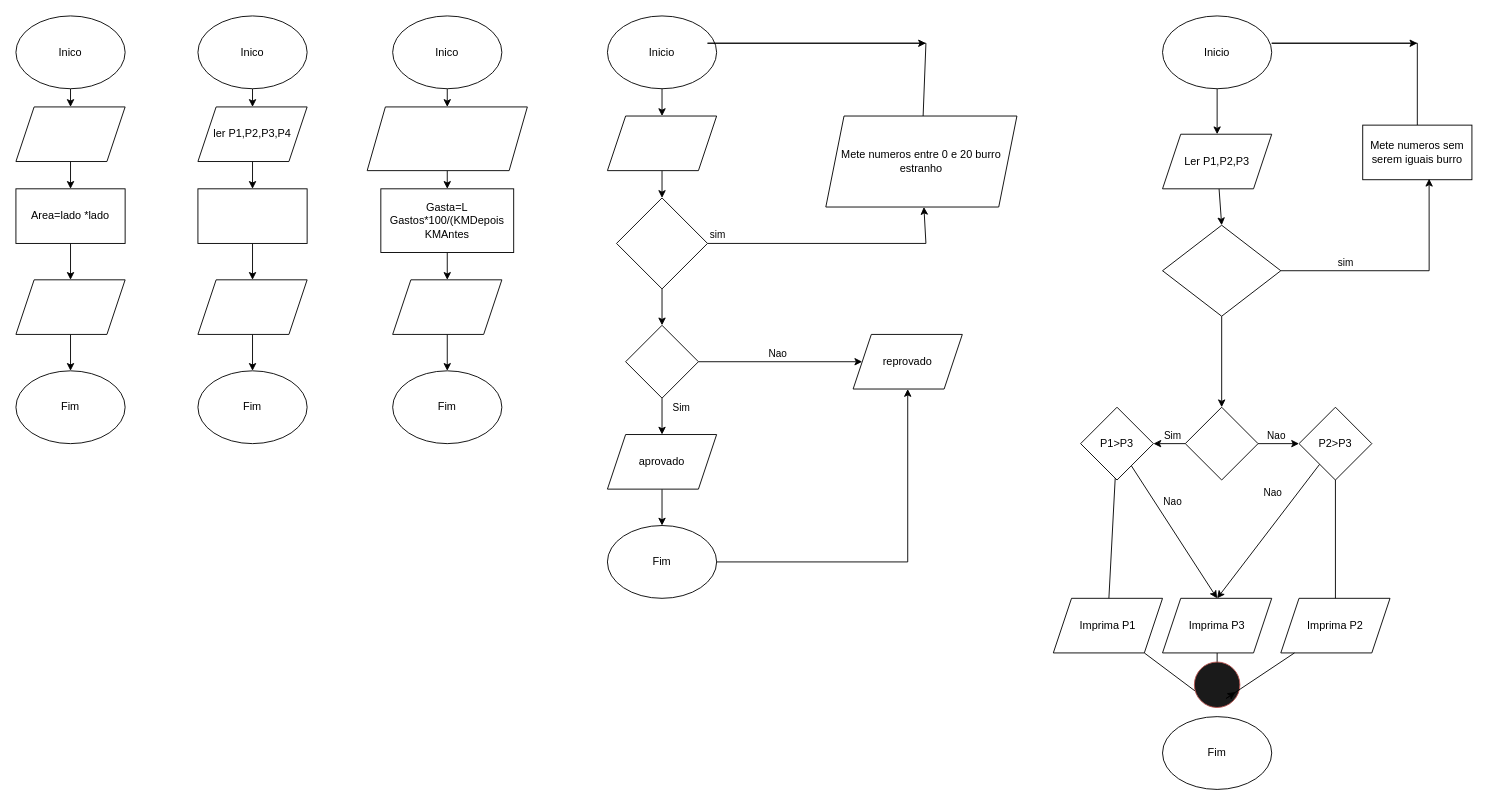
The diagram is 1488 pixels wide and 805 high, and some of its shapes have lost their labels. Here are the shapes that lost their labels. From the top down, the centre of each, then its label:
At (70,134): "Ler dado".
At (446,138): "Ler KMAntes,KMDepois,LGastos".
At (662,143): "Ler nota".
At (252,215): "(P1+P2+P3+P$)/4=M".
At (662,243): "Nota=20 or Nota=0".
At (1221,270): "P1=P2 or P1=P3 or P2=P3".
At (70,306): "Escrever Area".
At (252,306): "Escrever M".
At (447,306): "Escrever Gasta".
At (661,361): "nota>9,5".
At (1221,443): "P1>P2".
